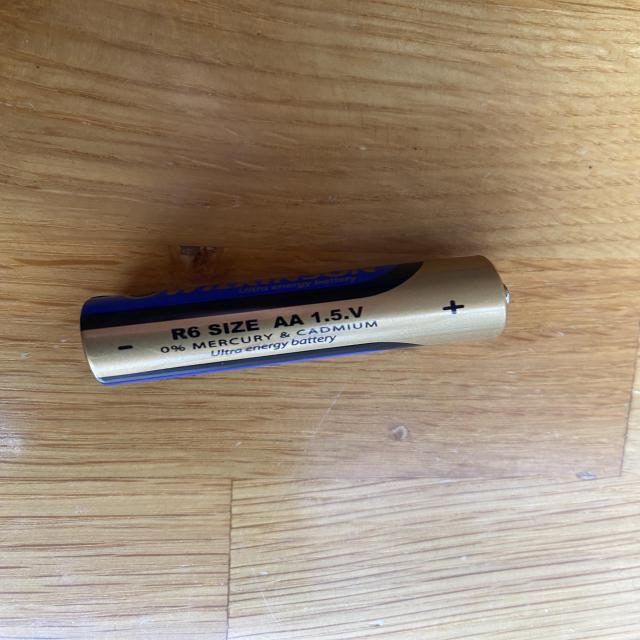AA: (79, 254, 510, 386)
